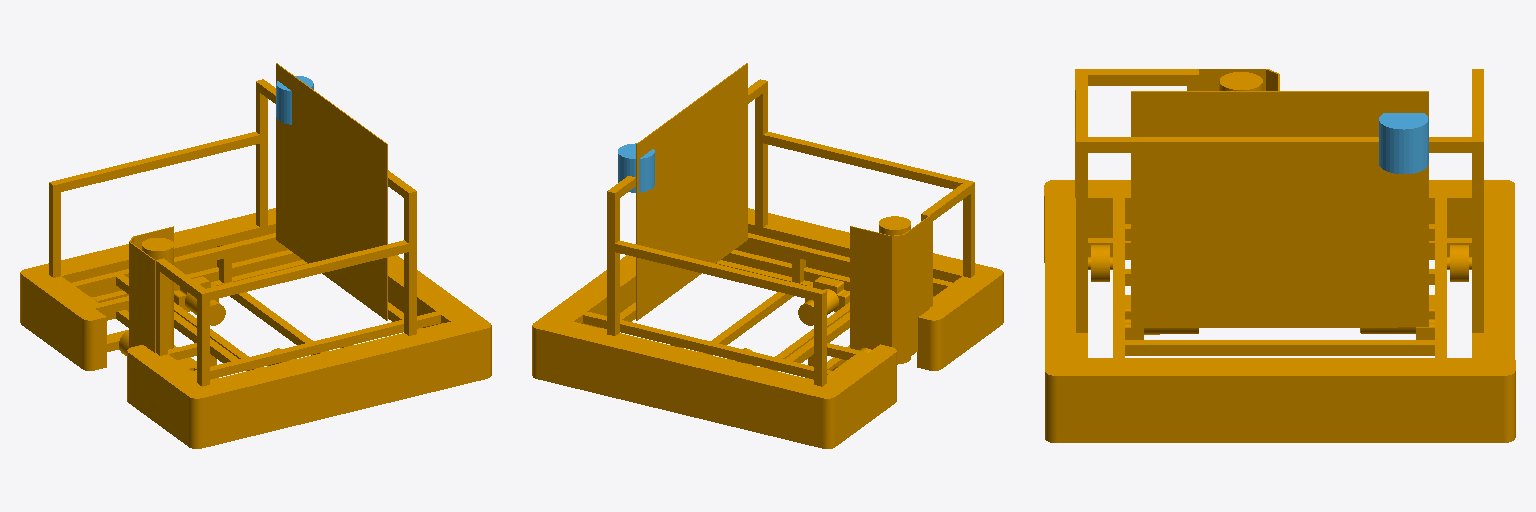
The robot description file, URDF, robot "hungry_toaster":
<robot name="hungry_toaster">
  <link name="base_link">
    <visual>
      <origin rpy="0 0 -1.57" xyz="-0.2 0 0.15"/>
      <geometry>
        <mesh filename="package://hungry_toaster/meshes/hungry_toaster_meters.stl"/>
      </geometry>
    </visual>
  </link>

  <joint name="base_link_to_laser" type="fixed">
    <parent link="base_link"/>
    <child link="laser"/>
    <origin xyz="0.3048 0.254 0.6096" rpy="0 0 -1.57"/>
  </joint>

  <link name="laser">
    <visual>
      <origin rpy="0 0 0" xyz="0 0 0"/>
      <geometry>
        <cylinder length="0.1016" radius="0.0508"/>
      </geometry>
    </visual>
  </link>
</robot>

--- Facts derived from the render (not from the file) ---
The picture shows the robot from 3 angles, left to right: view 1: azimuth 30°, elevation 25°; view 2: azimuth 150°, elevation 25°; view 3: azimuth 270°, elevation 25°; orthographic projection.
Model hungry_toaster with 2 links and 1 joints (1 fixed), rooted at base_link, posed every joint at zero.
Visible links, largest first — view 1: base_link, laser; view 2: base_link, laser; view 3: base_link, laser.
Boxes of the visible links, x1=… form: base_link: x1=20, y1=63, x2=491, y2=448; laser: x1=276, y1=76, x2=313, y2=124; base_link: x1=532, y1=63, x2=1003, y2=448; laser: x1=618, y1=143, x2=654, y2=192; base_link: x1=1044, y1=69, x2=1515, y2=442; laser: x1=1379, y1=113, x2=1428, y2=173.
Size in the robot's own frame: 0.9532 by 0.9659 by 0.6858 metres.
Meshes: 1 distinct files referenced, 1 mesh visuals loaded (1 binary STL).